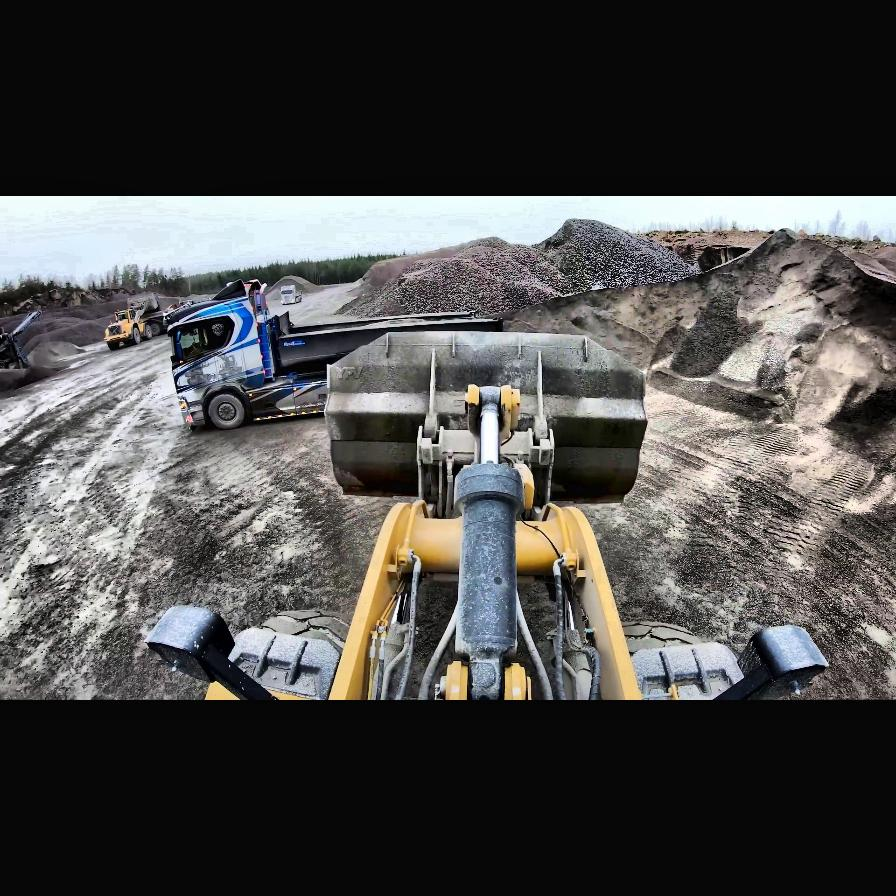anchor: (466, 384, 522, 440)
pile of gravel: (560, 226, 896, 438), (346, 225, 620, 318), (688, 229, 896, 327), (0, 283, 194, 359), (0, 363, 68, 393), (28, 340, 88, 368), (264, 276, 326, 296)
